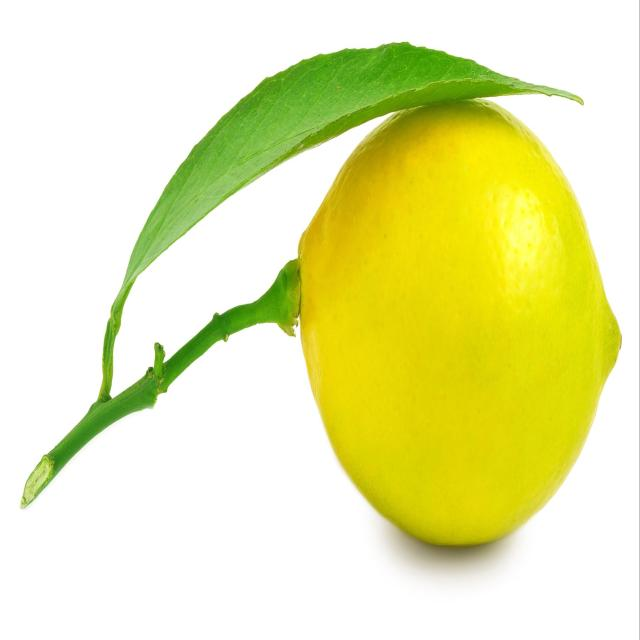lemon: (284, 79, 631, 563)
